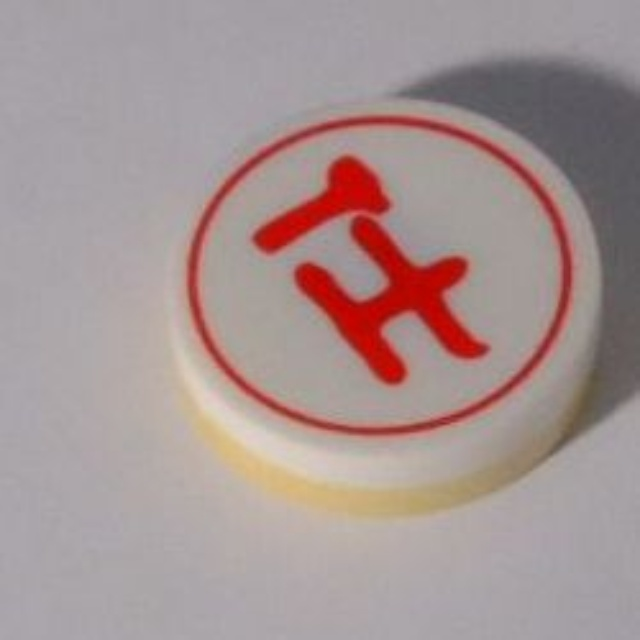red_si: (142, 82, 623, 513)
